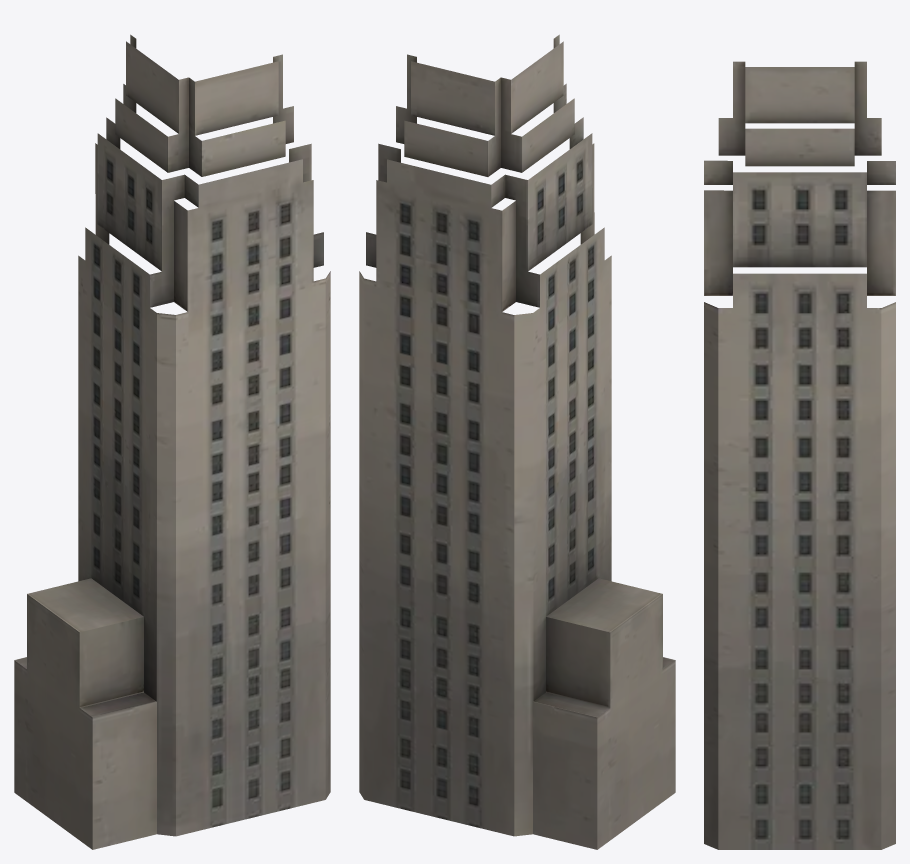
The picture shows the model from 3 angles, left to right: view 1: azimuth 30°, elevation 25°; view 2: azimuth 150°, elevation 25°; view 3: azimuth 270°, elevation 25°; orthographic projection. The views are drawn at different scales.
Parts seen in each view (by area): view 1: body0_model0_lod0_mesh0; view 2: body0_model0_lod0_mesh0; view 3: body0_model0_lod0_mesh0.
Part boxes in pixels (x1,y1,x2,y2): body0_model0_lod0_mesh0: [14, 34, 330, 849]; body0_model0_lod0_mesh0: [359, 34, 675, 849]; body0_model0_lod0_mesh0: [704, 61, 895, 849].
Bounding box in the file's own units: 123 × 365 × 82.94.
Materials: 1 (1 with a texture image).
